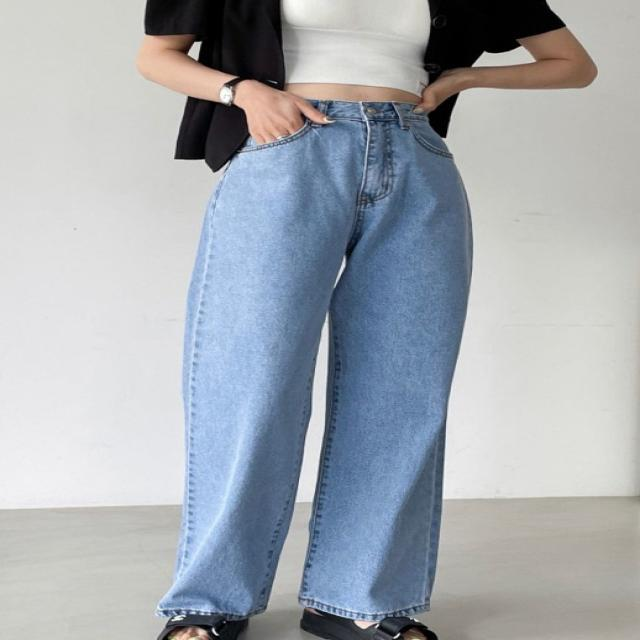denimpants: (158, 93, 473, 622)
